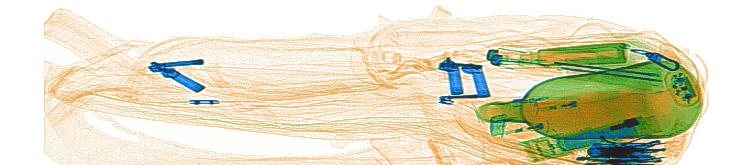battery: (557, 123, 640, 154)
lighter: (490, 104, 588, 140), (512, 92, 605, 115)
